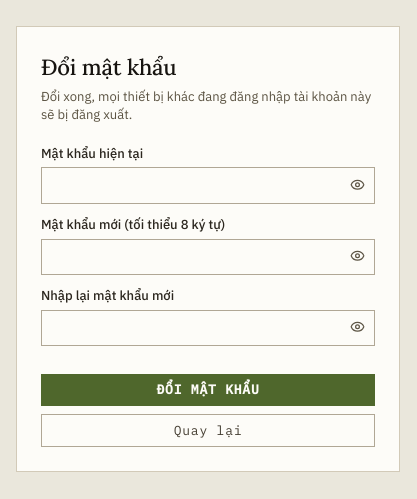
Test case: chung cả hai lối › hai ô mật khẩu mới lệch nhau thì không gửi đi
Type "matkhau123" into the password field labelled "Mật khẩu hiện tại" at (208, 186), box [41,167,375,204]
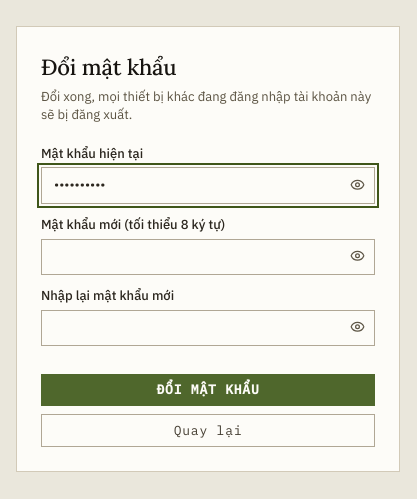
Type "matkhaumoi456" into the password field labelled "Mật khẩu mới (tối thiểu 8 ký tự)" at (208, 257), box [41,239,375,275]
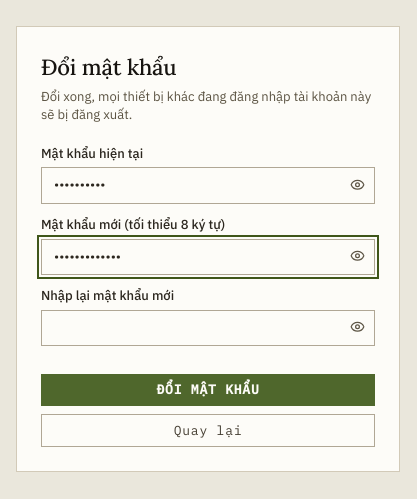
Type "matkhaumoi999" into the password field labelled "Nhập lại mật khẩu mới" at (208, 328), box [41,310,375,346]
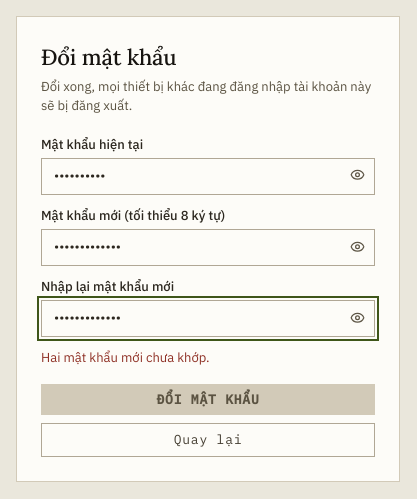
expect the message shows "chưa khớp": met, box [41,349,210,366]
expect the button "Đổi mật khẩu" is disabled: met, box [41,384,375,415]
